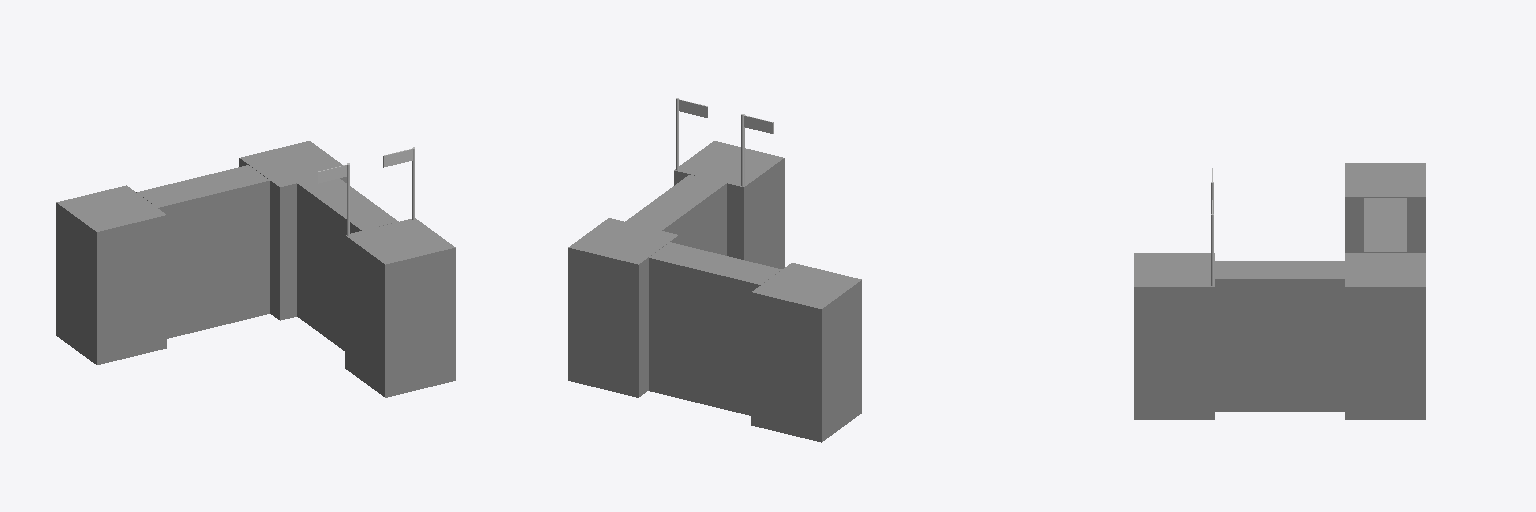
File: level.obj
3 renders of one model, left to right at view 1: azimuth 30°, elevation 25°; view 2: azimuth 150°, elevation 25°; view 3: azimuth 270°, elevation 25°, orthographic.
Parts seen in each view (by area): view 1: Cube, Cube.004_Cube.005, Cube.001, Cube.003_Cube.004, Cube.002; view 2: Cube, Cube.001, Cube.002, Cube.004_Cube.005, Cube.003_Cube.004; view 3: Cube.003_Cube.004, Cube.002, Cube.004_Cube.005, Cube, Cube.001.
Boxes of the visible parts, <box> form: Cube: <box>56,185,166,364</box>; Cube.004_Cube.005: <box>345,218,455,397</box>; Cube.001: <box>136,165,269,338</box>; Cube.003_Cube.004: <box>297,178,398,350</box>; Cube.002: <box>239,141,346,320</box>; Cube: <box>751,263,861,442</box>; Cube.001: <box>649,242,781,415</box>; Cube.002: <box>568,218,678,397</box>; Cube.004_Cube.005: <box>674,141,784,268</box>; Cube.003_Cube.004: <box>625,175,726,255</box>; Cube.003_Cube.004: <box>1215,261,1344,411</box>; Cube.002: <box>1345,253,1425,419</box>; Cube.004_Cube.005: <box>1134,253,1214,419</box>; Cube: <box>1345,163,1425,252</box>; Cube.001: <box>1364,198,1406,252</box>.
Bounding box in the file's own units: 2.27 × 1.75 × 2.26.